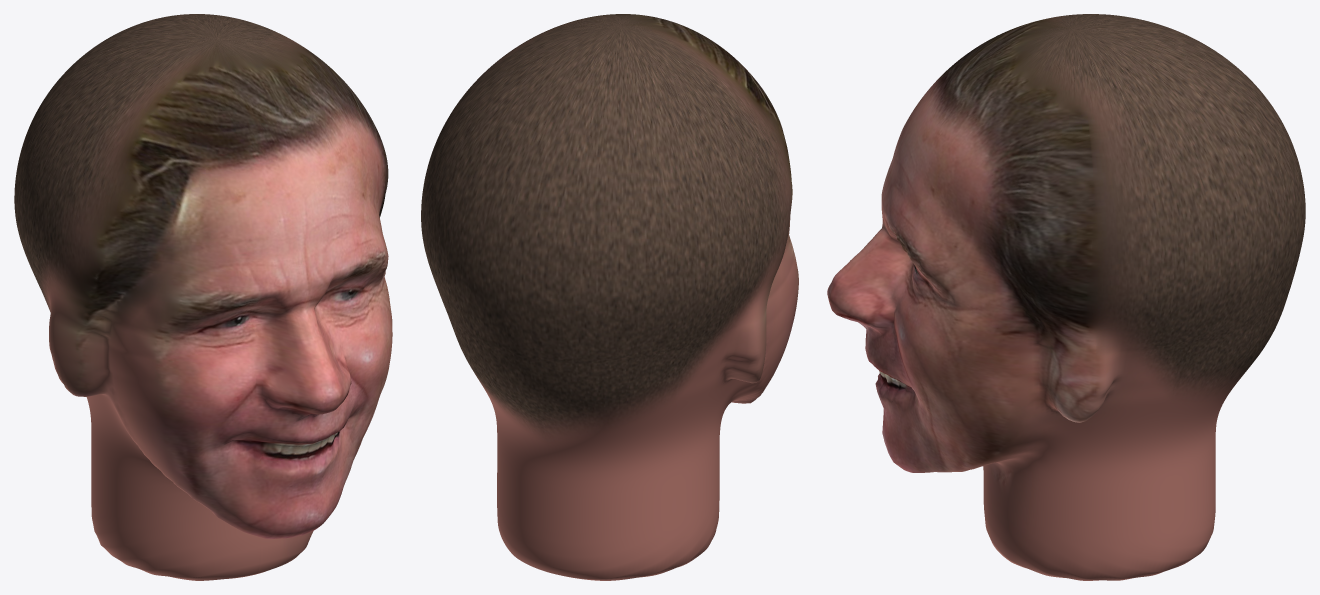
Rendered from schroeder.glb.
3 renders of one model, left to right at view 1: azimuth 30°, elevation 25°; view 2: azimuth 150°, elevation 25°; view 3: azimuth 270°, elevation 25°, orthographic.
Parts seen in each view (by area): view 1: SchroederHead; view 2: SchroederHead; view 3: SchroederHead.
Boxes of the visible parts, left/top/right/bottom form: SchroederHead: left=14, top=14, right=392, bottom=580; SchroederHead: left=421, top=14, right=798, bottom=580; SchroederHead: left=827, top=14, right=1305, bottom=580.
Size of the model in its own units: 0.178 by 0.2683 by 0.2277.
1 material, 1 textured.
